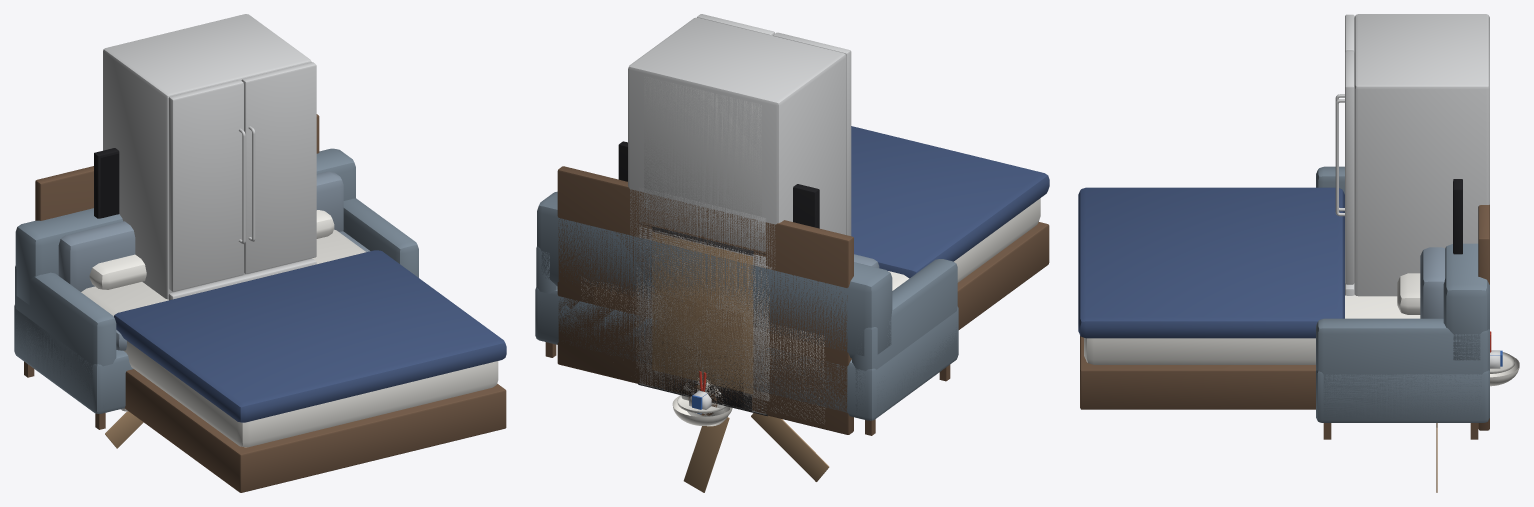
Rendered from interior.glb.
3 renders of one model, left to right at view 1: azimuth 30°, elevation 25°; view 2: azimuth 150°, elevation 25°; view 3: azimuth 270°, elevation 25°, orthographic. The views are drawn at different scales.
Parts seen in each view (by area): view 1: Bed, Fridge, Couch, TVScreen, FanBlades, TV; view 2: Bed, Fridge, Couch, Vanity, BaseCabinet, Range, FanBlades, TV, Tub, TVStand, Microwave, Nightstand (+1 smaller); view 3: Bed, Fridge, Couch, TV.
Part boxes in pixels (left/top/right/bottom): Bed: left=35, top=114, right=506, bottom=492; Fridge: left=103, top=14, right=316, bottom=300; Couch: left=14, top=148, right=418, bottom=429; TVScreen: left=100, top=153, right=119, bottom=218; FanBlades: left=105, top=411, right=143, bottom=448; TV: left=94, top=148, right=119, bottom=218; Bed: left=557, top=126, right=1049, bottom=434; Fridge: left=628, top=14, right=851, bottom=345; Couch: left=535, top=191, right=958, bottom=435; Vanity: left=636, top=77, right=771, bottom=416; BaseCabinet: left=652, top=226, right=753, bottom=412; Range: left=639, top=188, right=766, bottom=414; FanBlades: left=683, top=413, right=829, bottom=492; TV: left=618, top=141, right=819, bottom=228; Tub: left=581, top=279, right=825, bottom=423; TVStand: left=594, top=287, right=811, bottom=413; Microwave: left=662, top=342, right=743, bottom=408; Nightstand: left=664, top=295, right=742, bottom=402; Bed: left=1078, top=187, right=1489, bottom=430; Fridge: left=1335, top=14, right=1489, bottom=296; Couch: left=1316, top=166, right=1489, bottom=439; TV: left=1453, top=179, right=1462, bottom=254.
Bounding box in the file's own units: 2 × 2.45 × 2.28.
